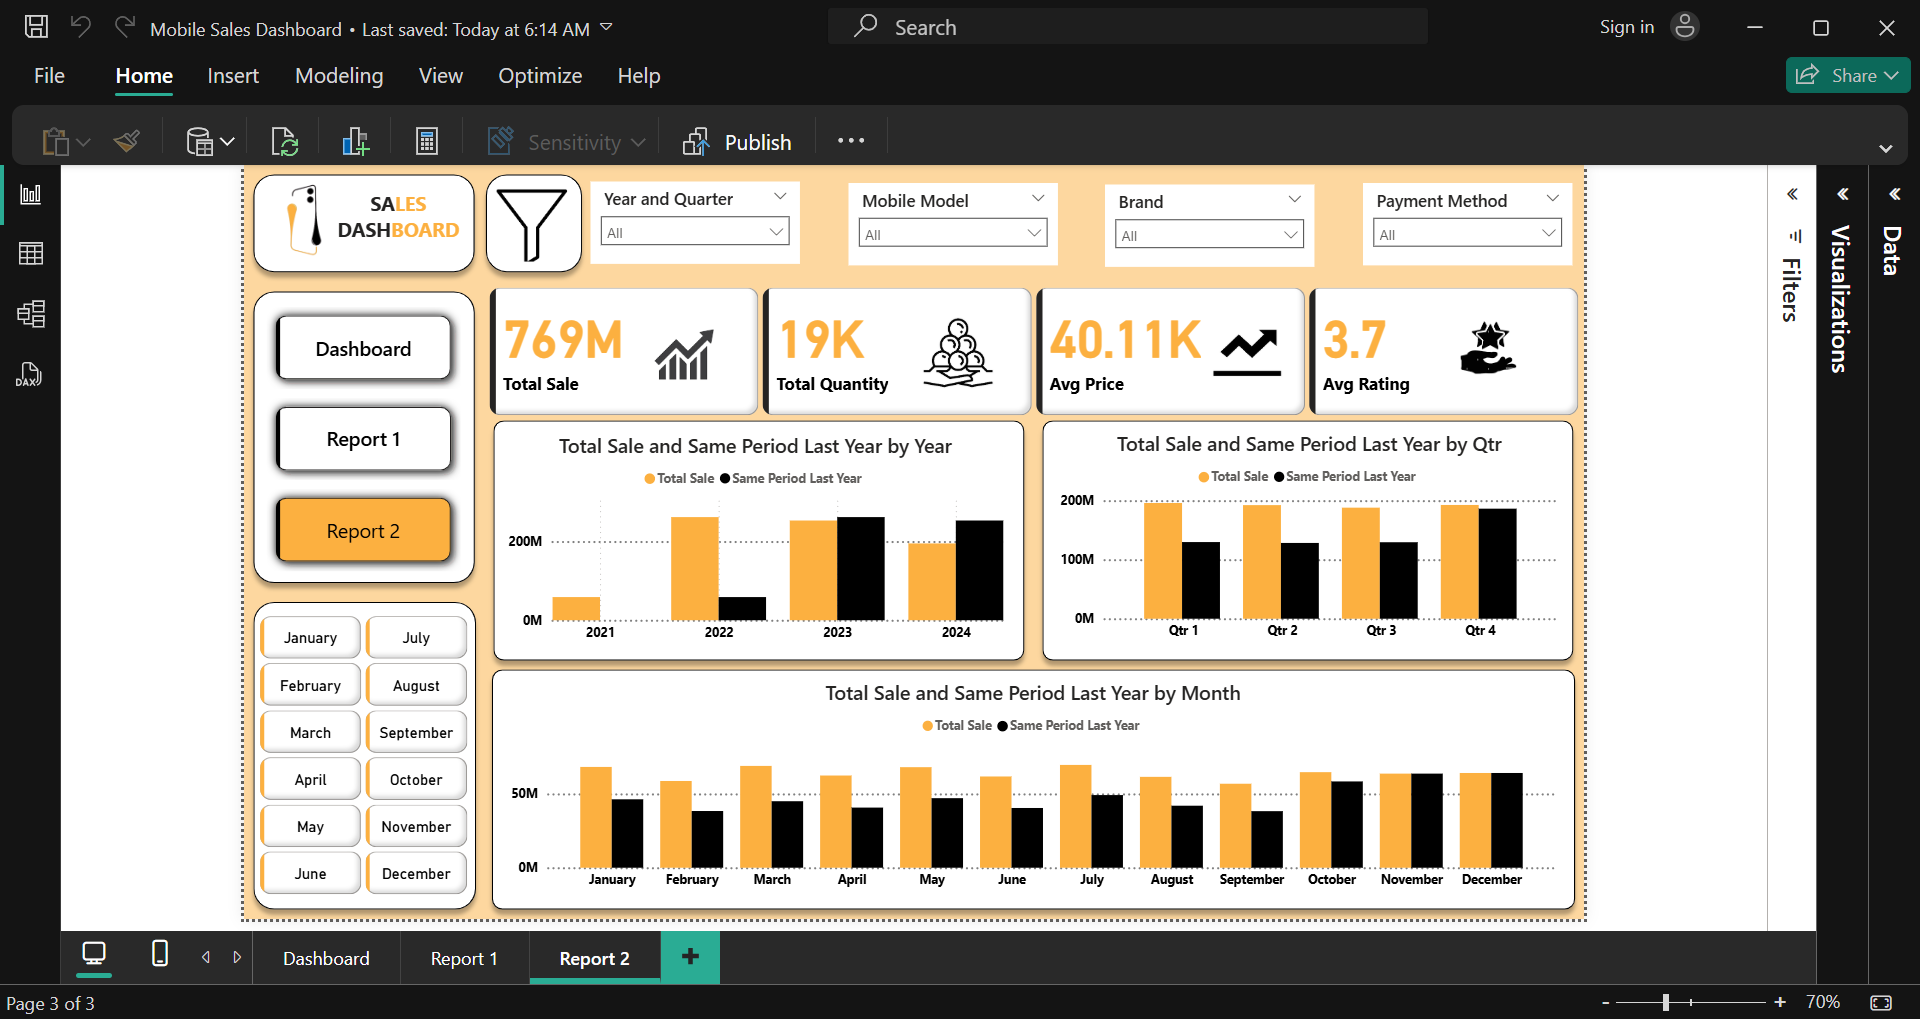

This screenshot's page, from the dashboard's own definition file:
{"tool":"powerbi","page":{"name":"Report 2","canvas":[1280,720],"ordinal":2},"visuals":[{"type":"shape","box":[0,0,229.5,111.5],"z":0},{"type":"slicer","fields":{"Values":["Sales Data.Mobile Model"]},"box":[577,18,200,78.7],"z":0,"group":"g1"},{"type":"slicer","fields":{"Values":["Sales Data.Brand"]},"box":[822.9,19.7,200,78.7],"z":1000,"group":"g1"},{"type":"shape","box":[0,111.5,229.5,296.7],"z":1000},{"type":"slicer","fields":{"Values":["Sales Data.Payment Method"]},"box":[1068.8,18,200,78.7],"z":2000,"group":"g1"},{"type":"cardVisual","fields":{"Data":["Sales Data.Total Sale","Sales Data.Total Quantity","Sales Data.Avg Price","Sales Data.Avg Rating"]},"box":[229.5,111.5,1050.8,132.8],"z":2000},{"type":"image","box":[0,1.6,114.8,109.8],"z":3000},{"type":"slicer","fields":{"Values":["Custom Calendar.Date.Variation.Date Hierarchy.Year","Custom Calendar.Date.Variation.Date Hierarchy.Quarter"]},"box":[331.1,16.4,200,78.7],"z":3000,"group":"g1"},{"type":"image","box":[352.5,134.4,136.1,91.8],"z":4000},{"type":"image","box":[621.3,139.3,121.3,80.3],"z":5000},{"type":"image","box":[1118,127.9,139.3,104.9],"z":6000},{"type":"image","box":[891.8,139.3,131.1,80.3],"z":7000},{"type":"textbox","box":[63.9,18,165.6,73.8],"z":8000},{"type":"group","id":"g1","title":"Group 1","box":[331.1,16.4,937.7,82],"z":9000},{"type":"shape","box":[221.3,0,109.8,111.5],"z":10000},{"type":"image","box":[219.7,13.1,111.5,93.4],"z":11000},{"type":"shape","box":[228.7,234.3,525.4,247.6],"z":12000},{"type":"shape","box":[754,234.3,525.4,247.6],"z":13000},{"type":"shape","box":[0,408.2,230.6,311.8],"z":14000},{"type":"advancedSlicerVisual","fields":{"Values":["Custom Calendar.Date.Variation.Date Hierarchy.Month"]},"box":[10,425,208.3,280],"z":15000},{"type":"clusteredColumnChart","title":"Total Sale and Same Period Last Year by Year","fields":{"Y":["Sales Data.Total Sale","Sales Data.Same Period Last Year"],"Category":["Custom Calendar.Date.Variation.Date Hierarchy.Year"]},"box":[245.7,255.1,483.8,209.8],"z":16000},{"type":"clusteredColumnChart","title":"Total Sale and Same Period Last Year by Qtr","fields":{"Y":["Sales Data.Total Sale","Sales Data.Same Period Last Year"],"Category":["Custom Calendar.Date.Variation.Date Hierarchy.Quarter"]},"box":[772.9,253.2,487.6,209.8],"z":17000},{"type":"shape","box":[227.7,473.3,1052.4,247.2],"z":18000},{"type":"clusteredColumnChart","title":"Total Sale and Same Period Last Year by Month","fields":{"Y":["Sales Data.Total Sale","Sales Data.Same Period Last Year"],"Category":["Custom Calendar.Date.Variation.Date Hierarchy.Month"]},"box":[248.9,491.2,1008.5,209.8],"z":19000},{"type":"pageNavigator","box":[21.1,135,185.4,255.4],"z":20000}]}

Visuals, with their boxes on the page's 1280x720 design canvas (x1, y1, x2, y2). These are canvas units, not pixel positions in the 1920x1019 screenshot, which may show the page scaled, cropped or inside an application window:
shape: 0 0 230 112
slicer - Sales Data.Mobile Model: 577 18 777 97
slicer - Sales Data.Brand: 823 20 1023 98
shape: 0 112 230 408
slicer - Sales Data.Payment Method: 1069 18 1269 97
cardVisual - Sales Data.Total Sale x Sales Data.Total Quantity: 230 112 1280 244
image: 0 2 115 111
slicer - Custom Calendar.Date.Variation.Date Hierarchy.Year x Custom Calendar.Date.Variation.Date Hierarchy.Quarter: 331 16 531 95
image: 352 134 489 226
image: 621 139 743 220
image: 1118 128 1257 233
image: 892 139 1023 220
textbox: 64 18 230 92
"Group 1" group: 331 16 1269 98
shape: 221 0 331 112
image: 220 13 331 106
shape: 229 234 754 482
shape: 754 234 1279 482
shape: 0 408 231 720
advancedSlicerVisual - Custom Calendar.Date.Variation.Date Hierarchy.Month: 10 425 218 705
"Total Sale and Same Period Last Year by Year" clusteredColumnChart: 246 255 730 465
"Total Sale and Same Period Last Year by Qtr" clusteredColumnChart: 773 253 1260 463
shape: 228 473 1280 720
"Total Sale and Same Period Last Year by Month" clusteredColumnChart: 249 491 1257 701
pageNavigator: 21 135 206 390
